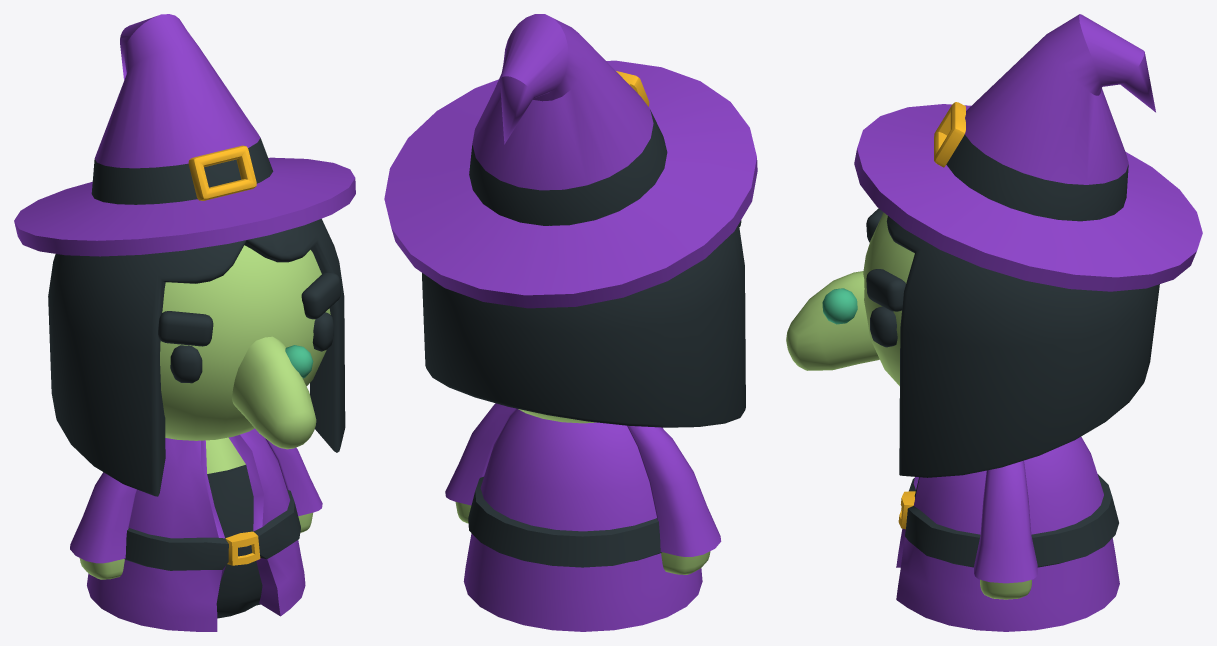
The model's file is witch.gltf.
3 renders of one model, left to right at view 1: azimuth 30°, elevation 25°; view 2: azimuth 150°, elevation 25°; view 3: azimuth 270°, elevation 25°, orthographic. The views are drawn at different scales.
Parts seen in each view (by area): view 1: character_witchHead, character_witchHat, character_witch.001, character_witchArmRight, character_witchArmLeft; view 2: character_witchHat, character_witchHead, character_witch.001, character_witchArmRight, character_witchArmLeft; view 3: character_witchHat, character_witchHead, character_witch.001, character_witchArmLeft.
Part boxes in pixels (<box>): character_witchHead: <box>48,218,345,496</box>; character_witchHat: <box>14,14,355,256</box>; character_witch.001: <box>87,428,305,631</box>; character_witchArmRight: <box>70,472,136,579</box>; character_witchArmLeft: <box>265,438,322,532</box>; character_witchHat: <box>384,14,757,308</box>; character_witchHead: <box>422,196,745,427</box>; character_witch.001: <box>463,409,702,631</box>; character_witchArmRight: <box>627,425,721,574</box>; character_witchArmLeft: <box>445,403,516,523</box>; character_witchHat: <box>854,14,1202,291</box>; character_witchHead: <box>786,208,1159,477</box>; character_witch.001: <box>896,437,1119,631</box>; character_witchArmLeft: <box>974,460,1037,599</box>.
Size of the model in its own units: 1.23 by 2.18 by 1.44.
